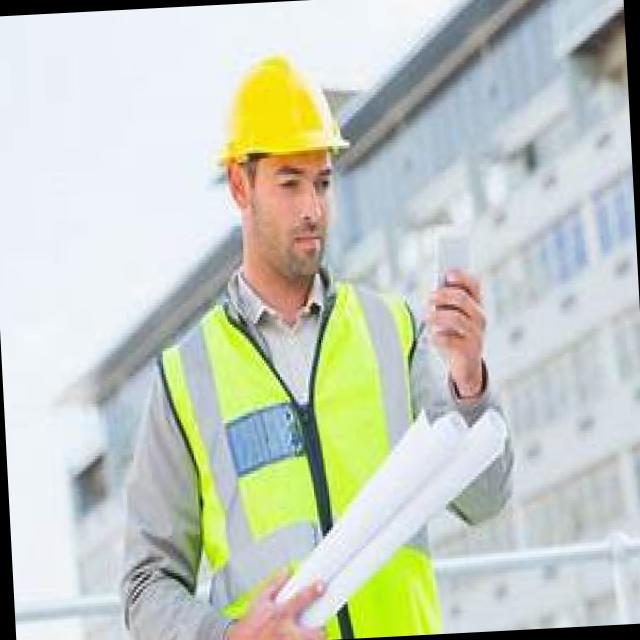not-gloved: (422, 256, 504, 390), (216, 562, 328, 640)
